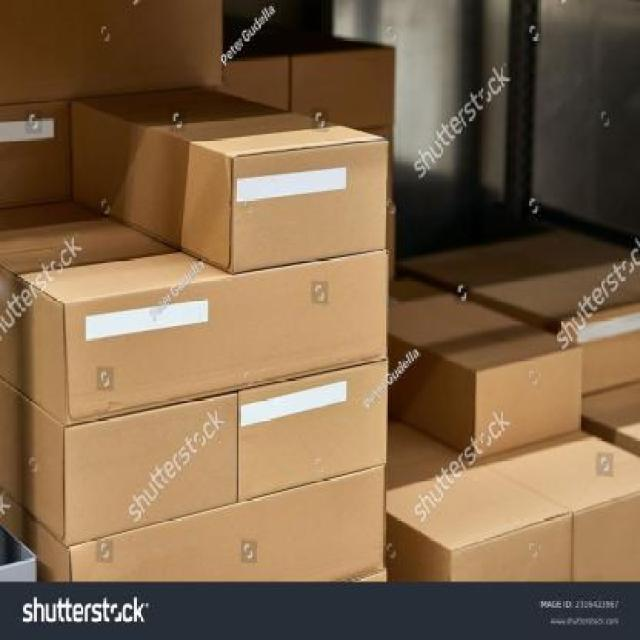BoxFace: (66, 252, 389, 426), (66, 466, 385, 582), (64, 392, 238, 548), (240, 358, 394, 507), (226, 144, 391, 268), (474, 348, 583, 457)
